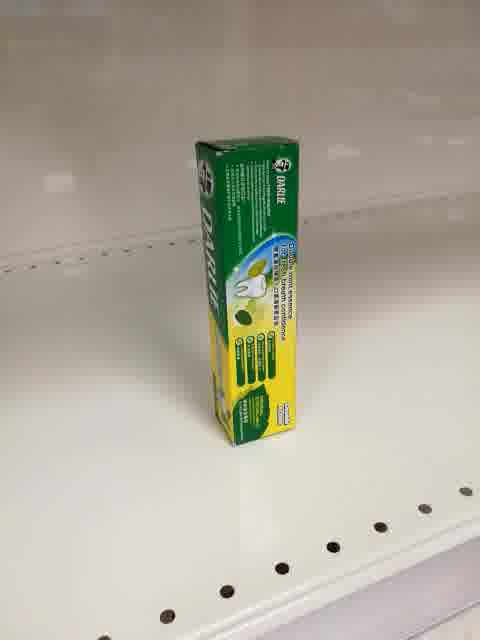toothpaste: (196, 137, 300, 446)
